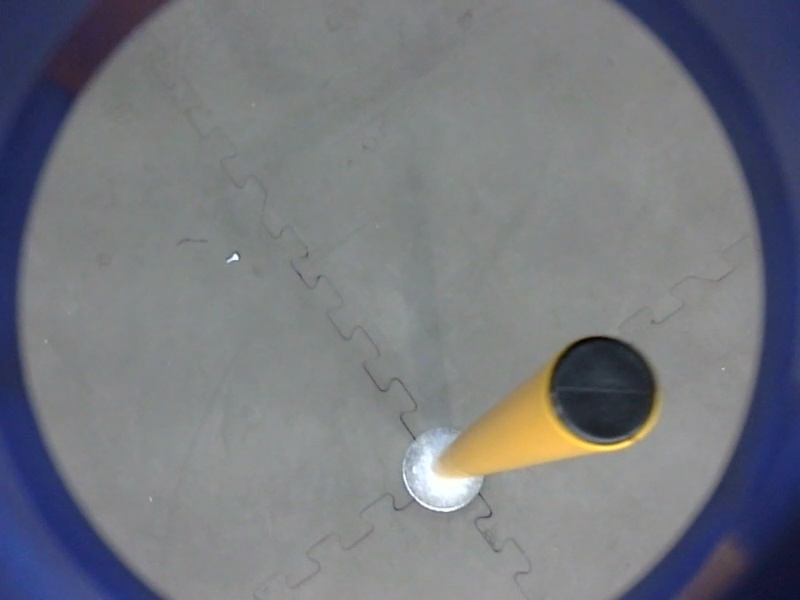tip: (542, 328, 671, 457)
